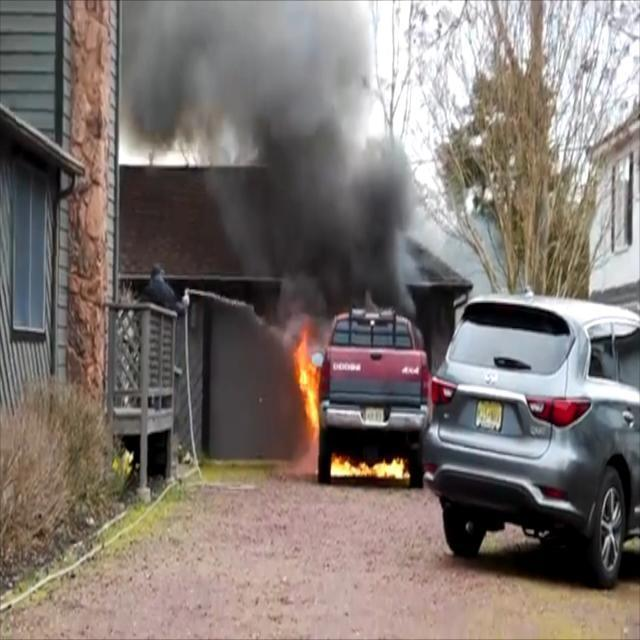fire: (292, 318, 336, 472), (328, 452, 413, 480)
